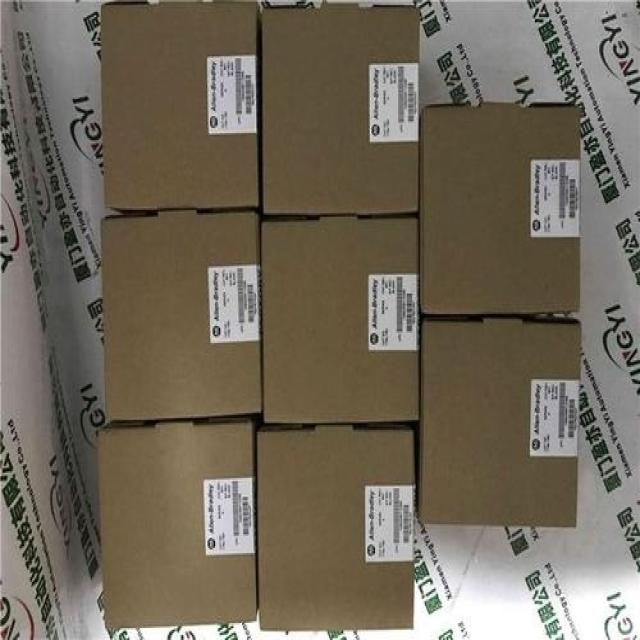box: (96, 415, 257, 630), (259, 212, 421, 425), (101, 210, 262, 420), (101, 0, 262, 210), (257, 420, 415, 633), (262, 3, 419, 215), (415, 316, 567, 527), (420, 102, 567, 316)
